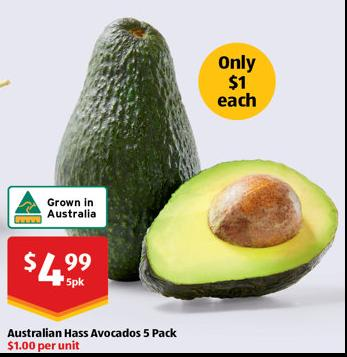description_block: (5, 324, 185, 340)
price_main: (4, 236, 113, 318)
product_image_block: (133, 145, 341, 307)
unit_price_block: (5, 338, 90, 353)
